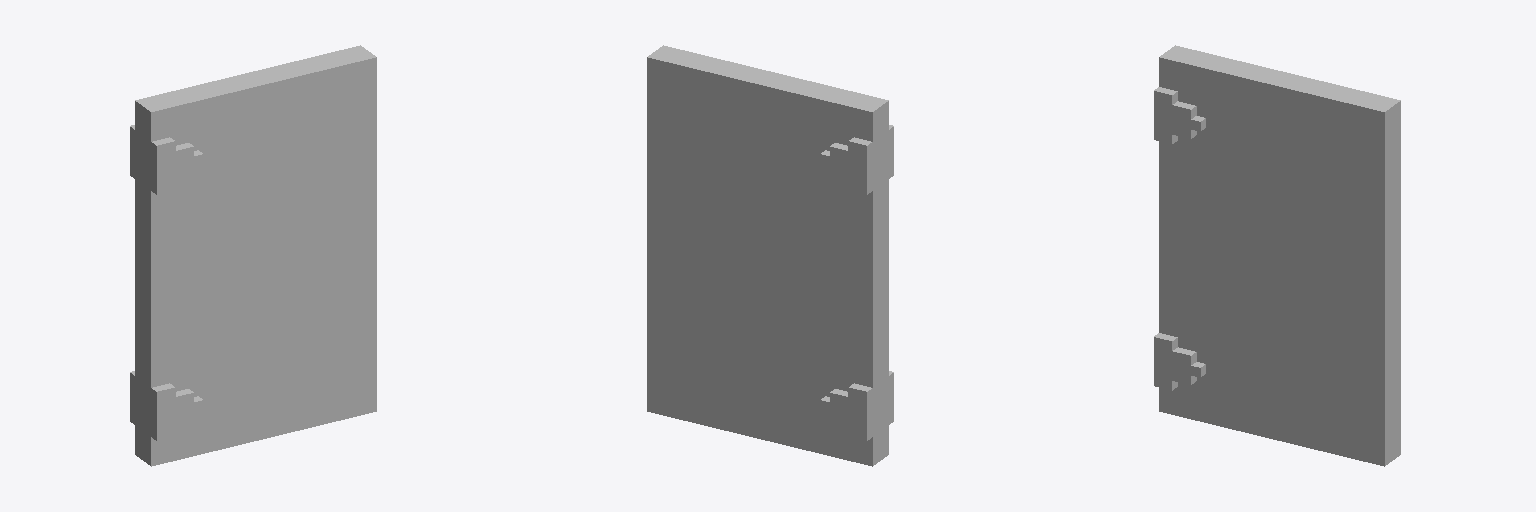
Rendered from door.obj.
The picture shows the model from 3 angles: view 1: azimuth 30°, elevation 25°; view 2: azimuth 150°, elevation 25°; view 3: azimuth 330°, elevation 25°; orthographic projection.
Visible parts, largest first — view 1: object 1; view 2: object 1; view 3: object 1.
Boxes of the visible parts, x1=… form: object 1: x1=130, y1=45, x2=376, y2=466; object 1: x1=647, y1=45, x2=893, y2=466; object 1: x1=1154, y1=45, x2=1400, y2=466.
Size of the model in its own units: 2.4 by 3.6 by 0.5.